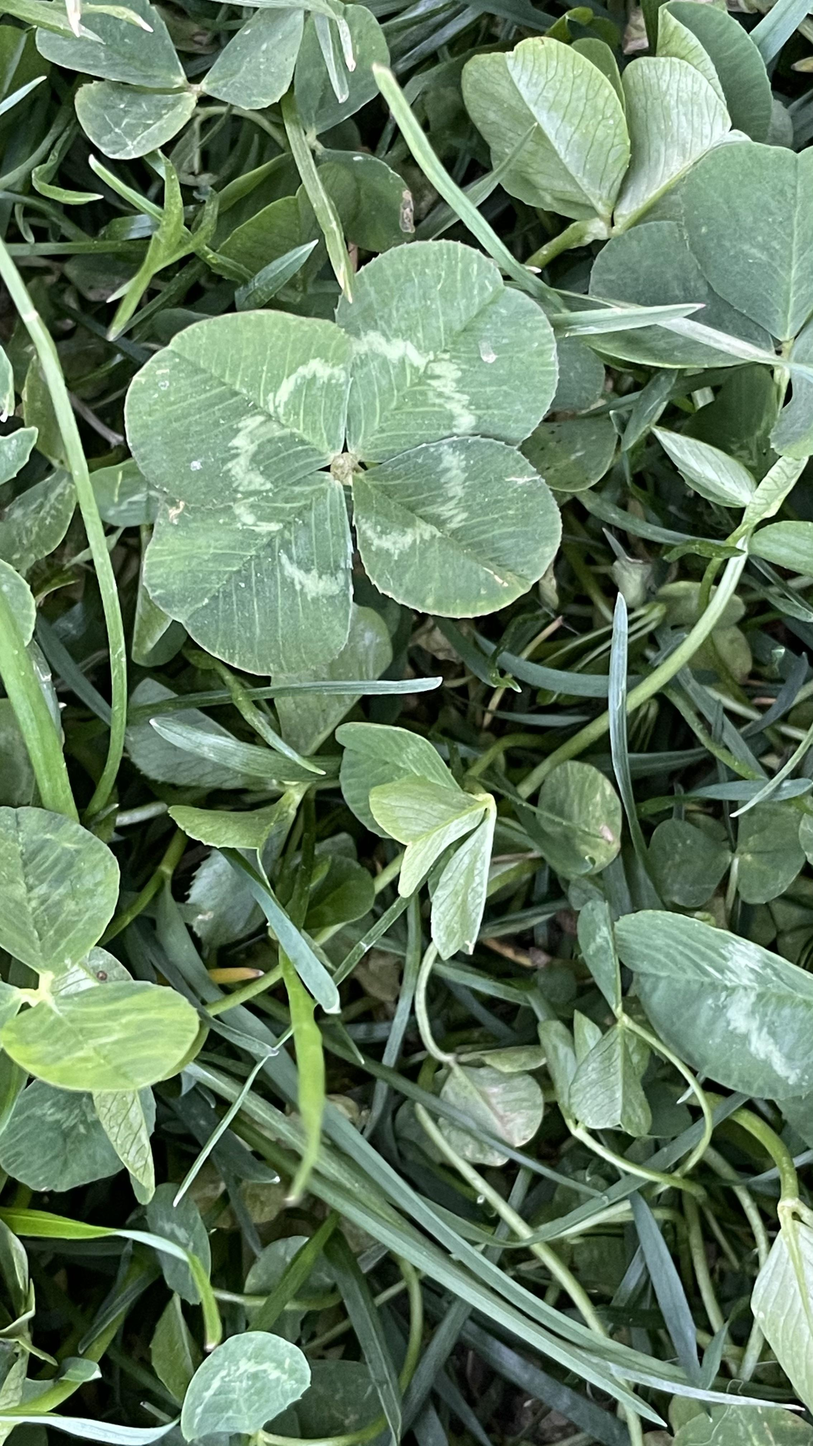4-Leaf-Clovers: (136, 440, 382, 1221)
